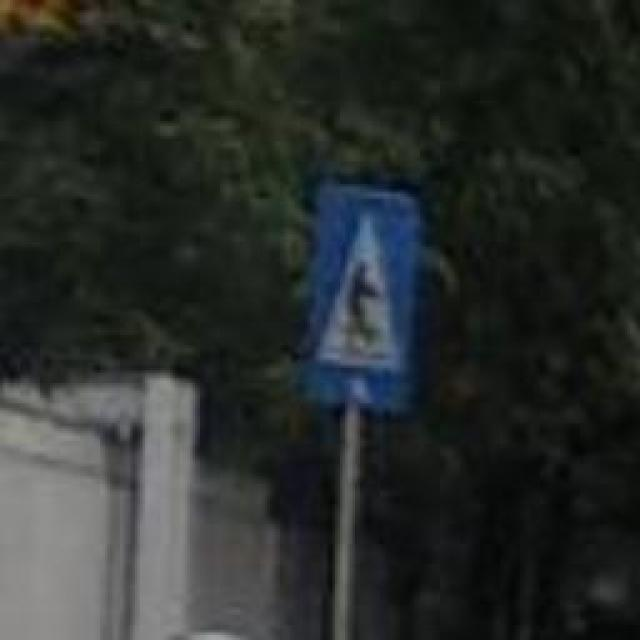traffic sign: (315, 184, 422, 411)
